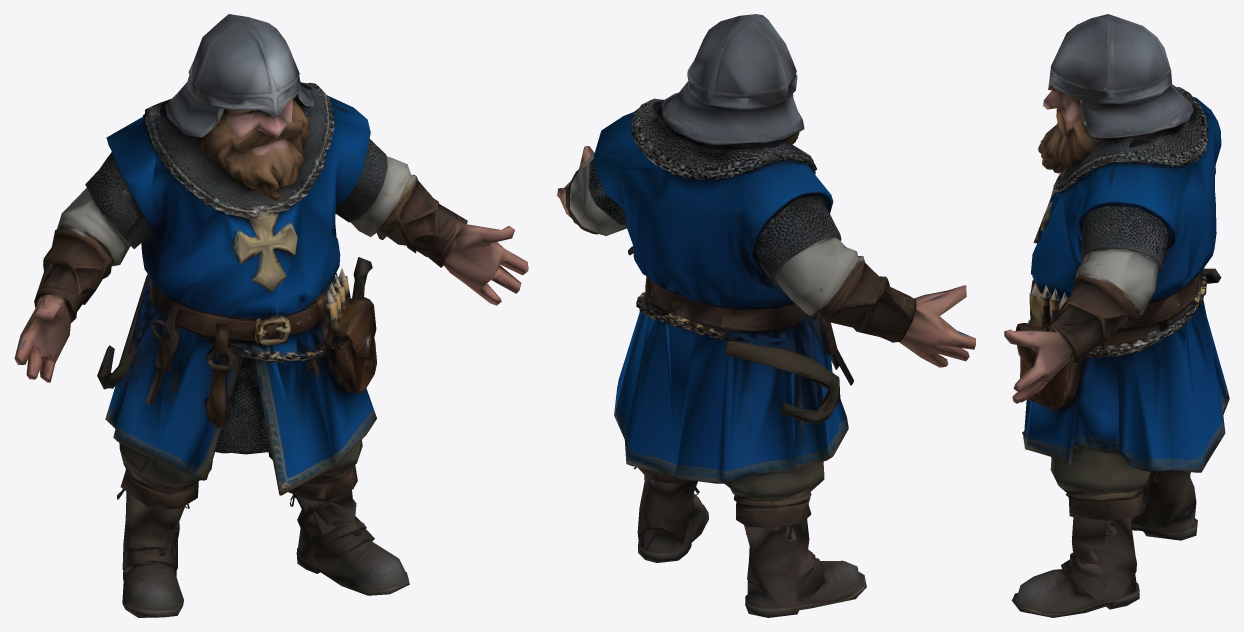
The model's file is dwf_arch.glb.
3 renders of one model, left to right at view 1: azimuth 30°, elevation 25°; view 2: azimuth 150°, elevation 25°; view 3: azimuth 270°, elevation 25°, orthographic. The views are drawn at different scales.
Visible parts, largest first — view 1: node_0; view 2: node_0; view 3: node_0.
Boxes of the visible parts, x1,y1,x2,y2 form: node_0: (14,14,528,617); node_0: (557,14,975,617); node_0: (1004,14,1229,617).
Bounding box in the file's own units: 0.9317 × 1.08 × 0.4019.
1 material, 1 textured.
